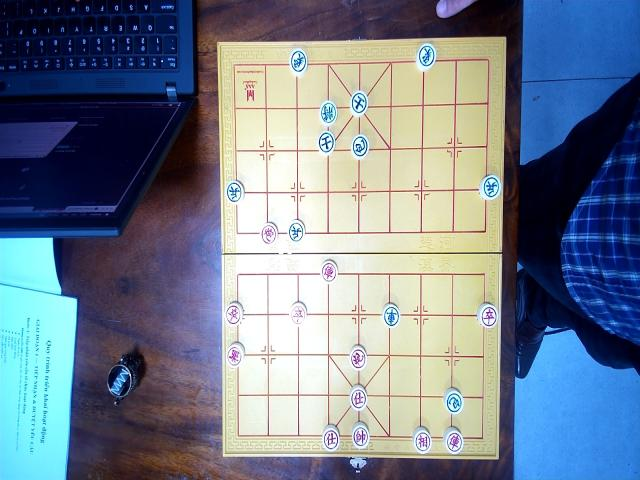piece: (478, 174, 500, 201), (415, 42, 436, 70), (412, 426, 432, 454), (443, 387, 463, 415), (350, 422, 370, 449), (477, 301, 497, 328), (442, 427, 462, 453), (322, 425, 341, 452), (349, 383, 367, 410), (350, 344, 368, 371), (289, 48, 307, 75), (226, 342, 245, 367), (382, 302, 401, 327), (350, 88, 368, 114), (351, 133, 369, 159), (319, 99, 337, 125), (225, 301, 243, 326), (225, 178, 243, 202), (318, 131, 336, 155), (290, 300, 306, 325), (288, 219, 304, 242), (260, 223, 276, 244), (321, 260, 336, 282)
